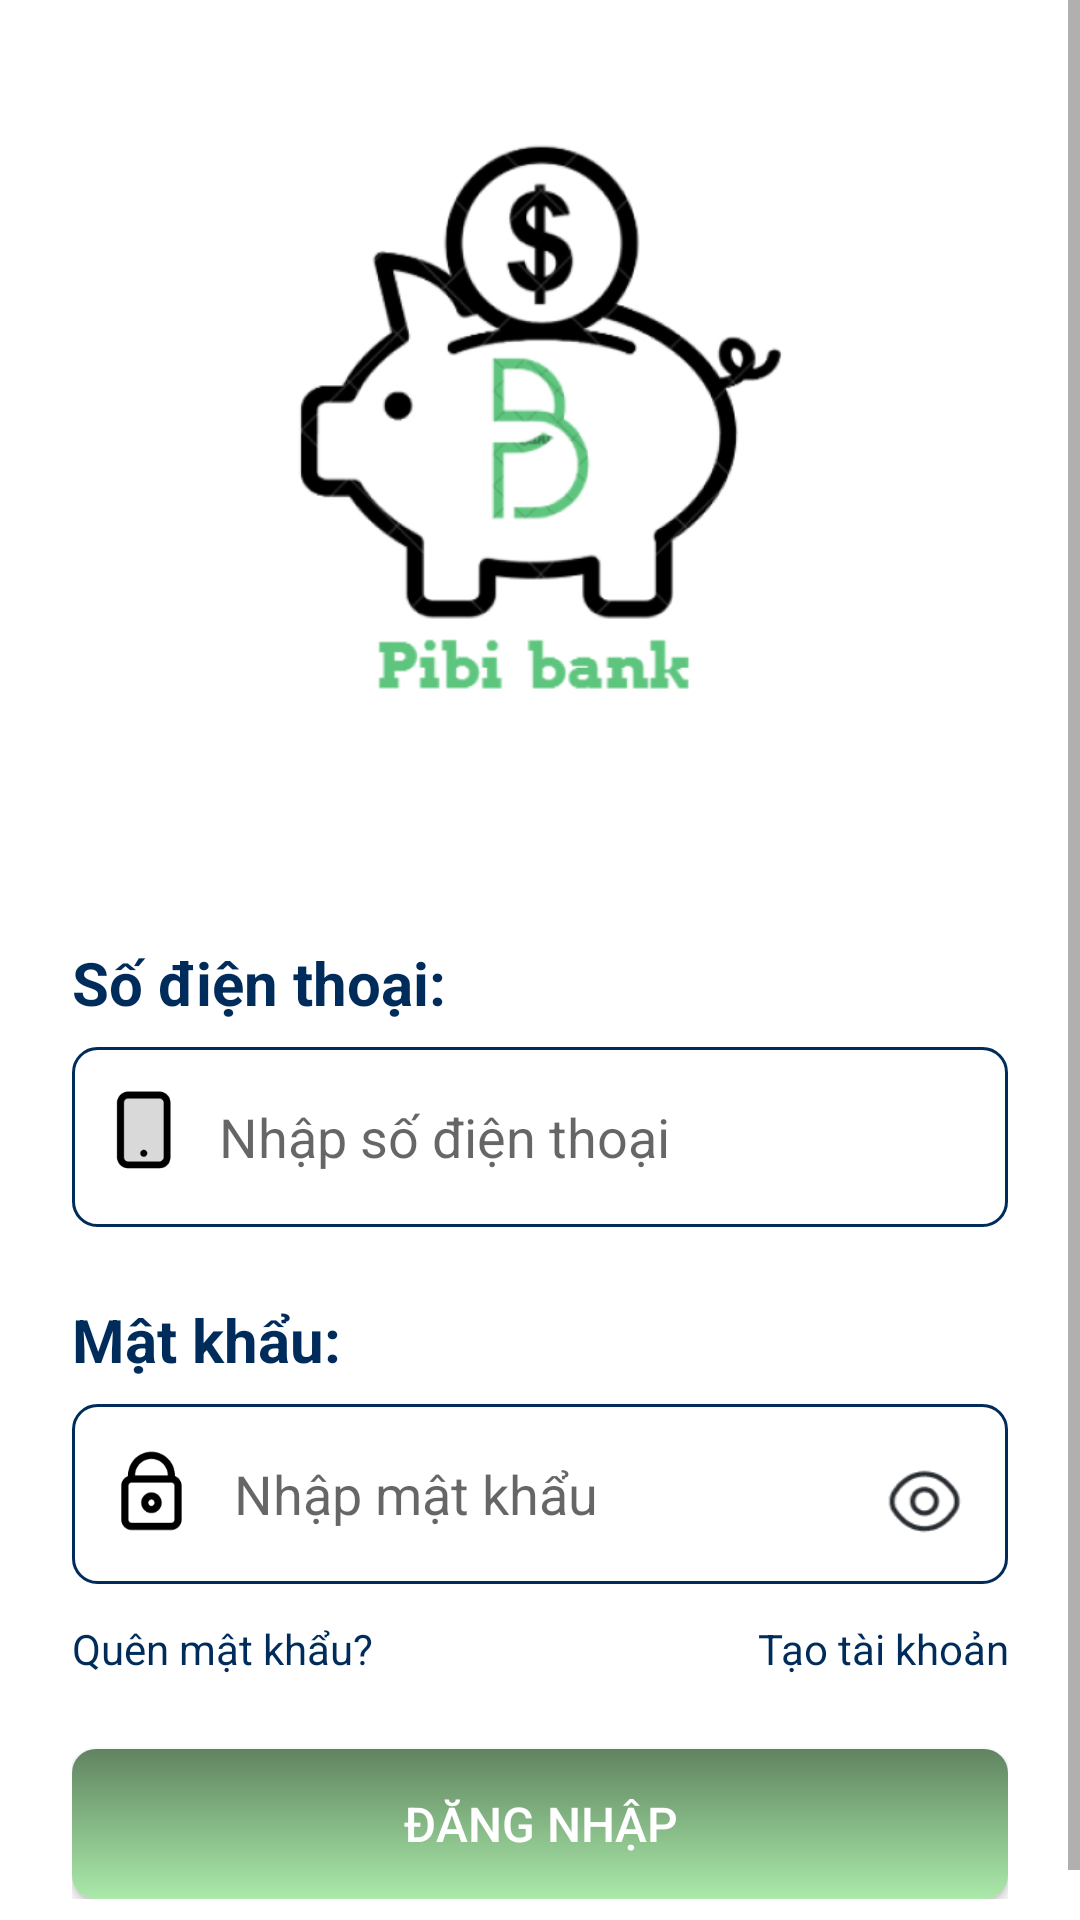

Icons on this 1080x1920 Android screen, each with its box as (x1, y1, x2, y2):
lock: (121, 1451, 182, 1531)
phone: (116, 1091, 171, 1169)
